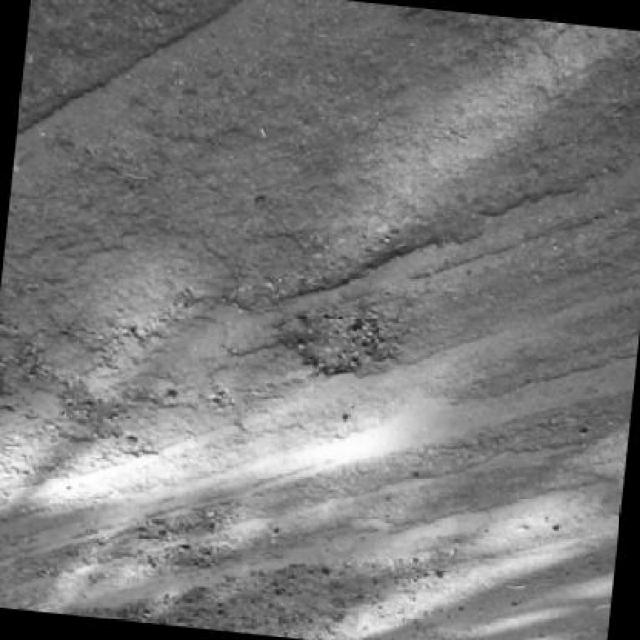pothole: (276, 304, 407, 388)
